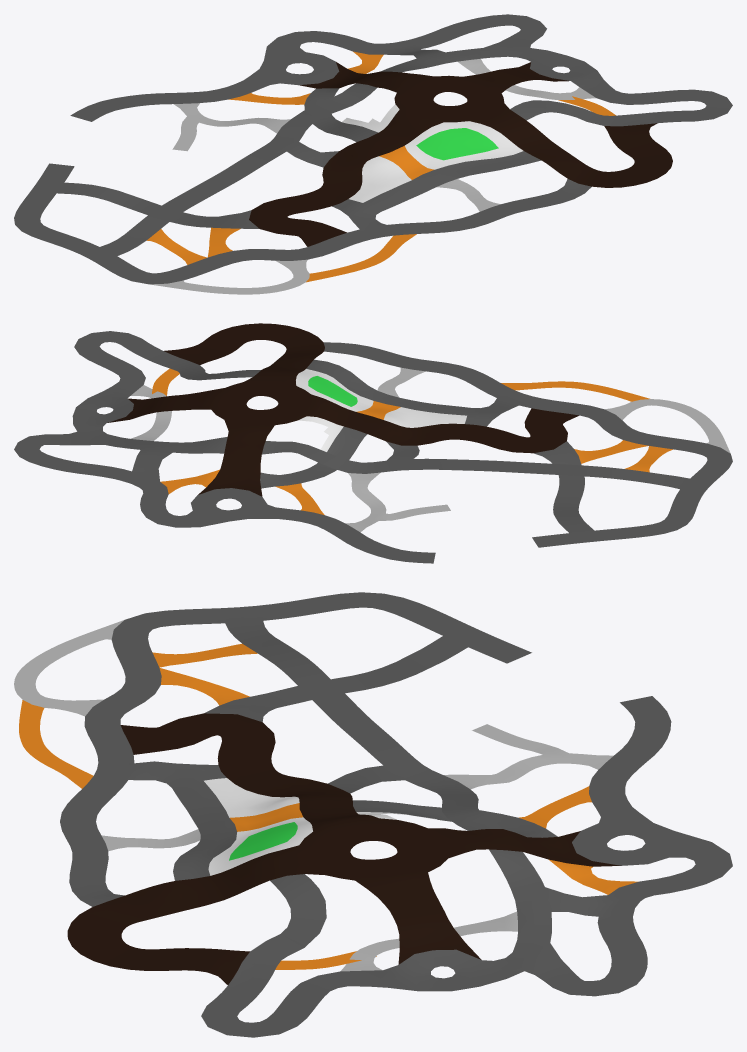
The model's file is Protoype01.fbx.
3 renders of one model, top to bottom at view 1: azimuth 30°, elevation 25°; view 2: azimuth 150°, elevation 25°; view 3: azimuth 270°, elevation 25°, orthographic. The views are drawn at different scales.
Visible parts, largest first — view 1: Plane.024; view 2: Plane.024; view 3: Plane.024.
Part boxes in pixels (box(x1,y1,x2,y2)): Plane.024: box(14, 14, 732, 294); Plane.024: box(14, 323, 732, 563); Plane.024: box(14, 592, 732, 1037).
Size of the model in its own units: 21671 by 891 by 14779.
